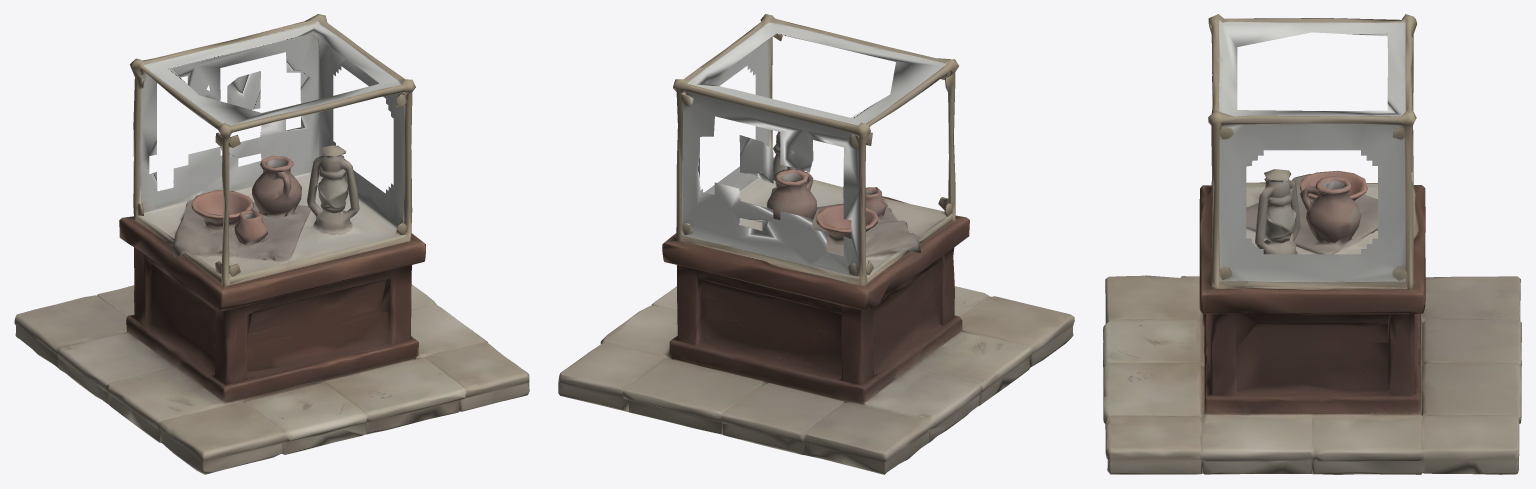
Rendered from museum_display_case.glb.
3 views of the same model, side by side, from view 1: azimuth 30°, elevation 25°; view 2: azimuth 150°, elevation 25°; view 3: azimuth 270°, elevation 25° (orthographic). The views are drawn at different scales.
Parts seen in each view (by area): view 1: tripo_node_92e311d0-1088-4c30-865b-964395cae14a; view 2: tripo_node_92e311d0-1088-4c30-865b-964395cae14a; view 3: tripo_node_92e311d0-1088-4c30-865b-964395cae14a.
Part boxes in pixels (x1,y1,x2,y2): tripo_node_92e311d0-1088-4c30-865b-964395cae14a: (14,14,529,474); tripo_node_92e311d0-1088-4c30-865b-964395cae14a: (558,14,1074,474); tripo_node_92e311d0-1088-4c30-865b-964395cae14a: (1103,14,1521,474).
Bounding box in the file's own units: 1 × 0.8549 × 0.9971.
1 material, 1 textured.
